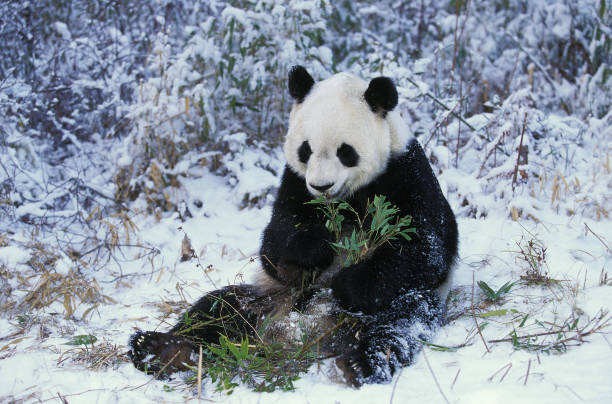panda: (268, 53, 432, 215)
